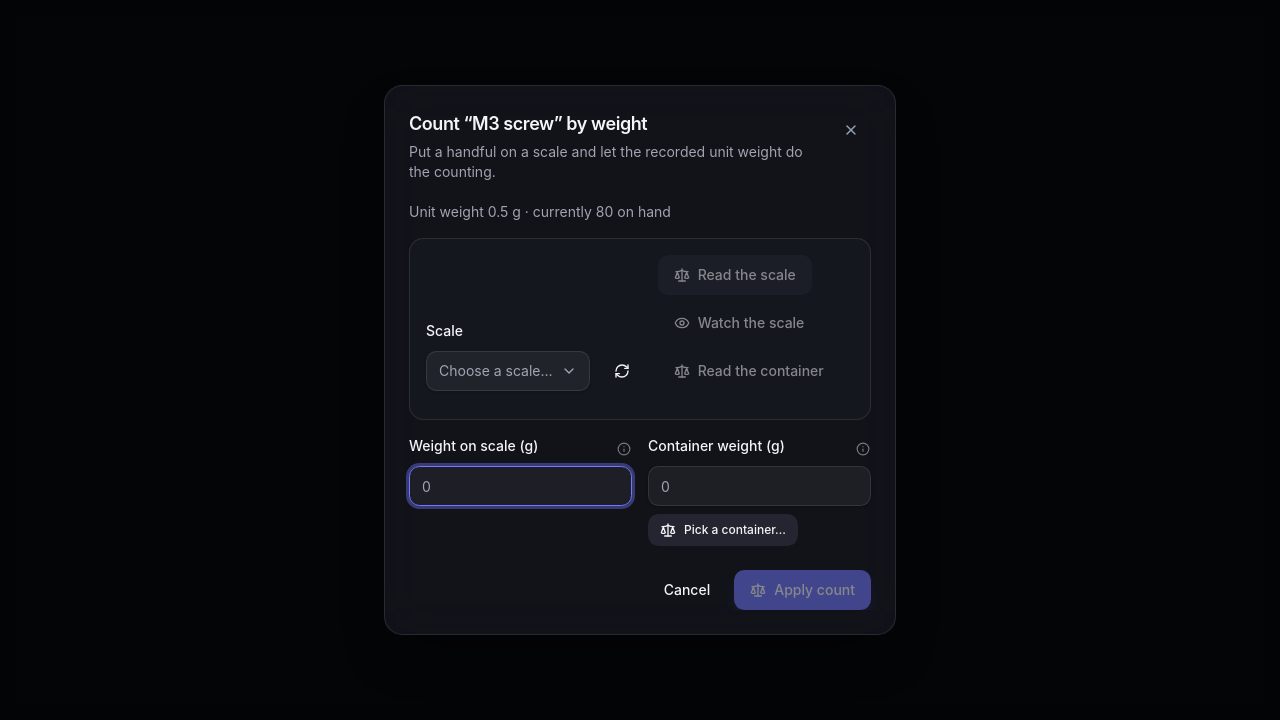
Test: ScaleReadPanel (issue #122) › refreshing the scale list (issue #124 §4) › keeps the existing list when a refresh fails, and says why
Expected: the button with test id "scale-read" is shown, [658,255,812,295]
Click the button with test id "scale-refresh": (622, 371) [598,351,646,391]
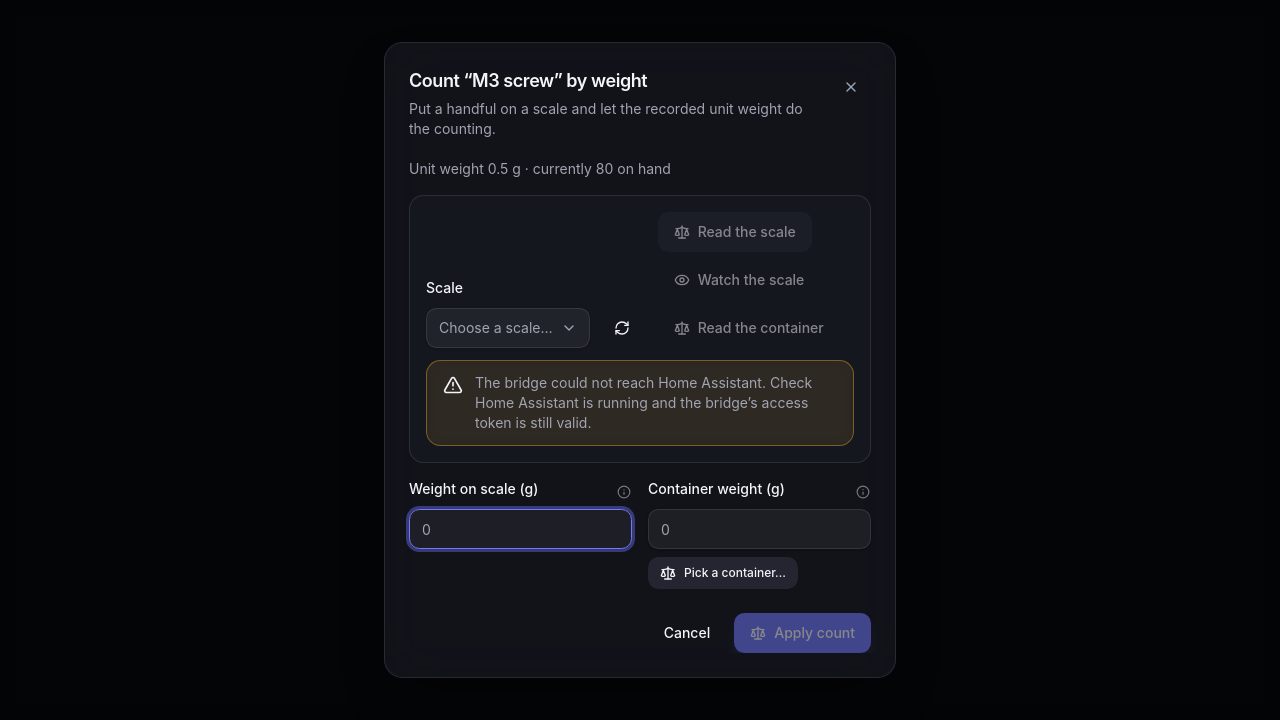
Expected: the button with test id "scale-read" is shown, [658,212,812,252]
Result: the message with test id "scale-error" shows "could not reach Home Assistant" at [475,374,812,431]
